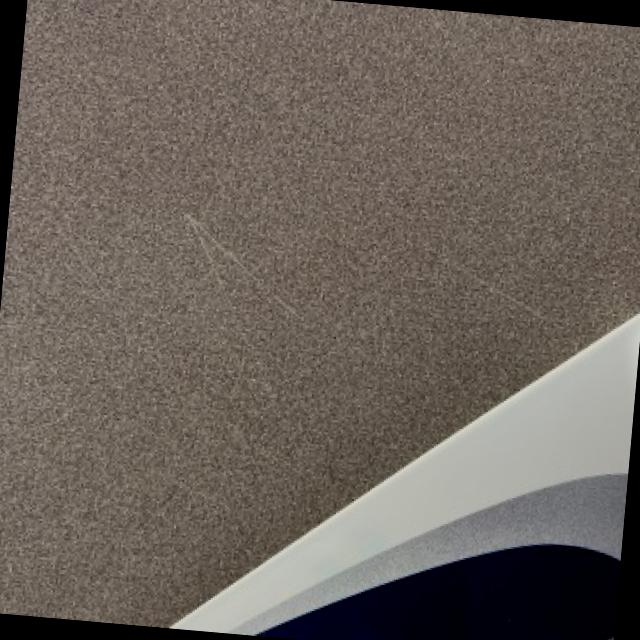healthy: (171, 314, 640, 633)
